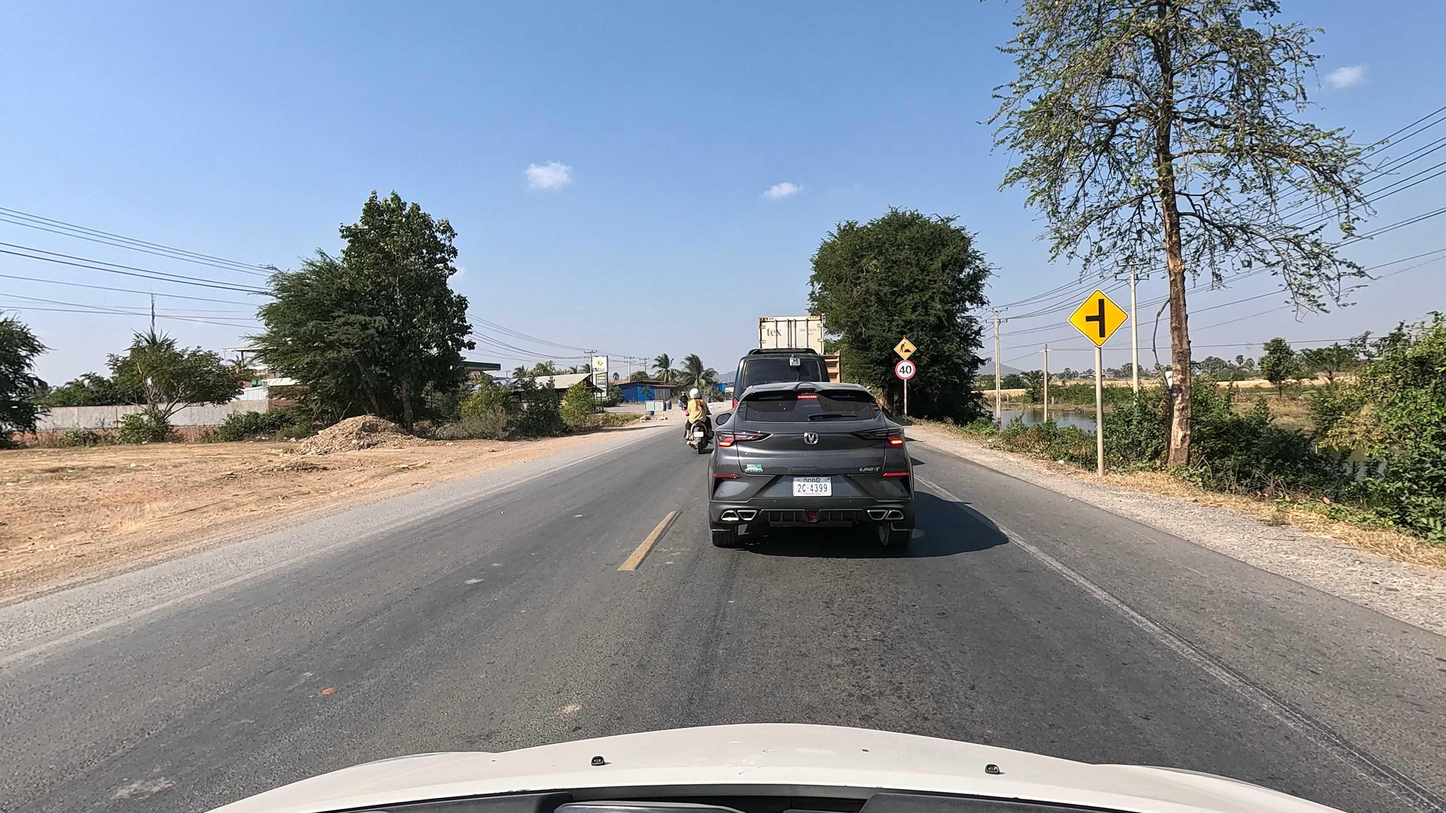side_road_junction_left: (1069, 287, 1130, 349)
speed_limit_40: (895, 360, 917, 381)
workers_ahead: (892, 338, 917, 359)
